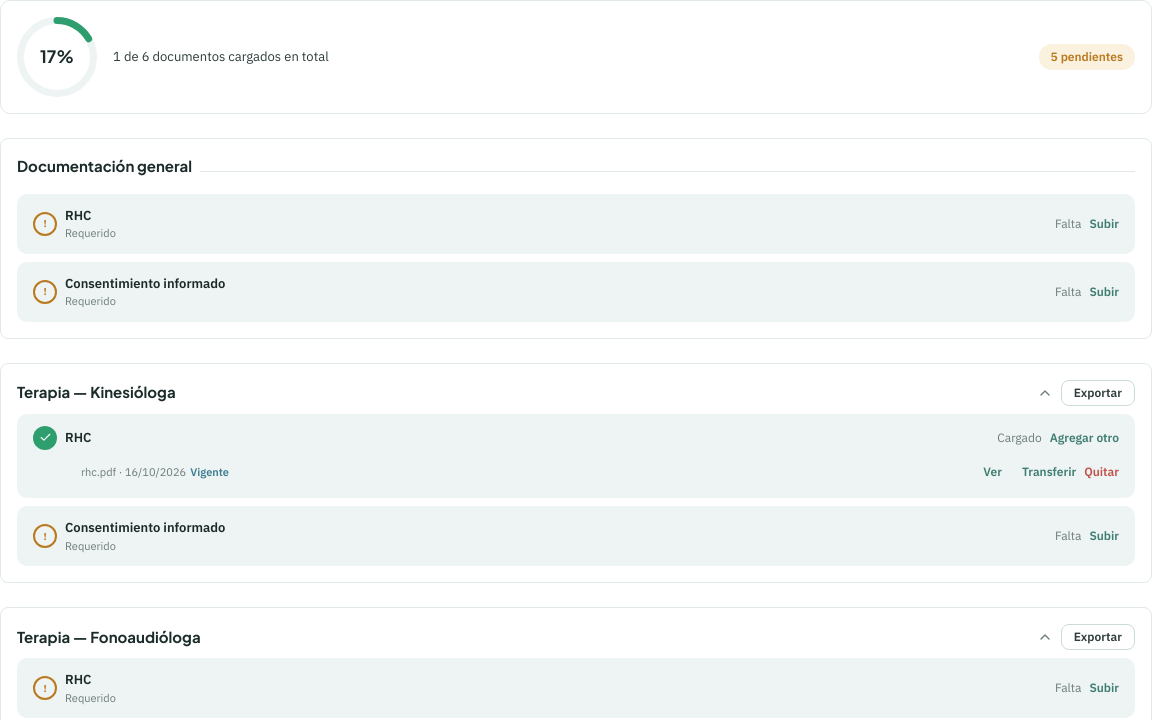
Test case: PacienteDocumentos — transferir un documento entre actividades (tasks.md §6) › cancelar la transferencia no modifica nada (tasks.md 6.5)
expect the text "rhc.pdf · 16/10/2026Vigente" is shown: met, box x1=81 y1=464 x2=229 y2=480
Click the button with aria-label "transferir rhc": {"x": 1049, "y": 472} x1=1022 y1=464 x2=1076 y2=480
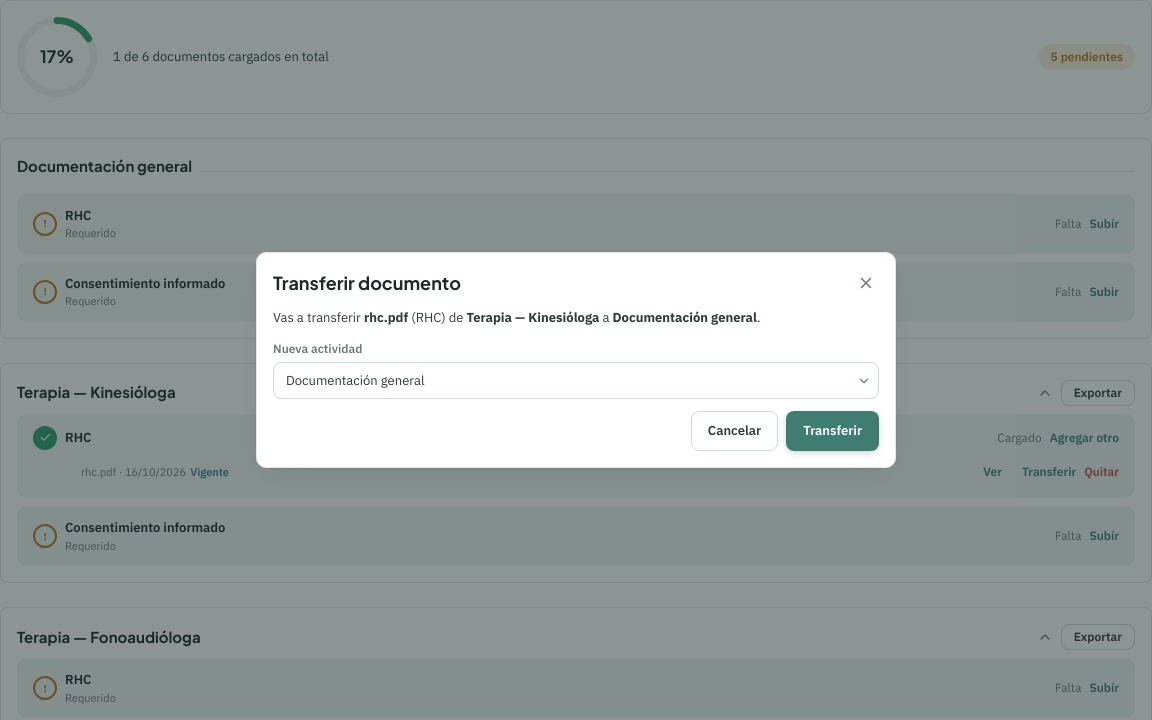
Click the button "Cancelar": {"x": 735, "y": 431} x1=691 y1=411 x2=778 y2=451
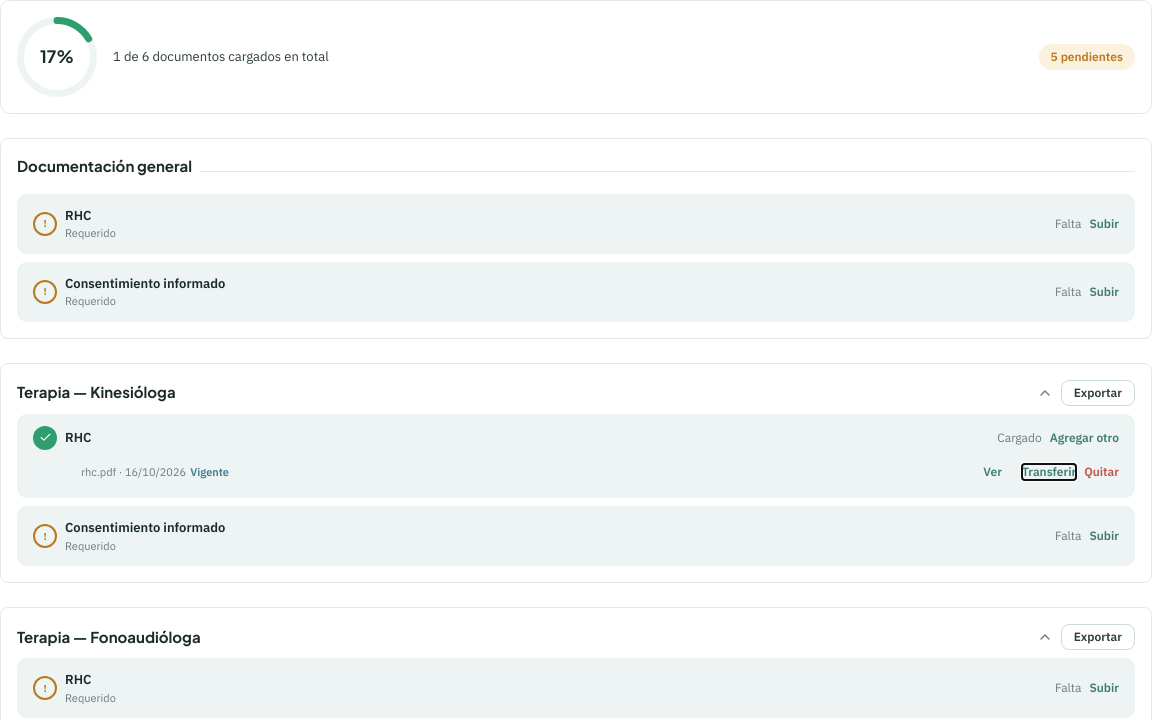
expect the text "rhc.pdf · 16/10/2026Vigente" is shown: met, box x1=81 y1=464 x2=229 y2=480
expect the dialog is gone: met
